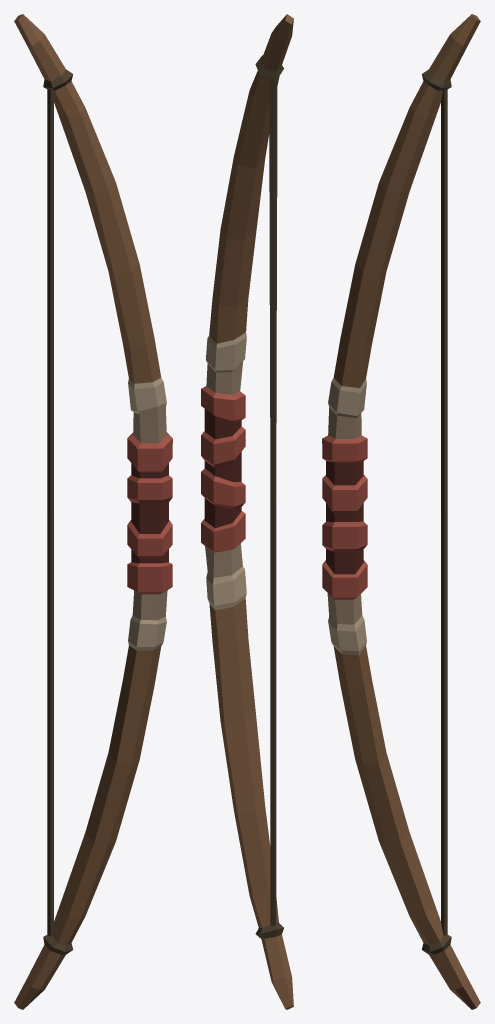
The model's file is SM_Weapon_Bow.fbx.
3 renders of one model, left to right at view 1: azimuth 90°, elevation 25°; view 2: azimuth 210°, elevation 25°; view 3: azimuth 270°, elevation 25°, orthographic.
Visible parts, largest first — view 1: SM_Wep_Bow_02; view 2: SM_Wep_Bow_02; view 3: SM_Wep_Bow_02.
Part boxes in pixels (x1=…): SM_Wep_Bow_02: x1=14, y1=14, x2=172, y2=1009; SM_Wep_Bow_02: x1=201, y1=14, x2=293, y2=1009; SM_Wep_Bow_02: x1=322, y1=14, x2=480, y2=1009.
Bounding box in the file's own units: 5.01 × 145 × 20.9.
Materials: 1 (1 with a texture image).
